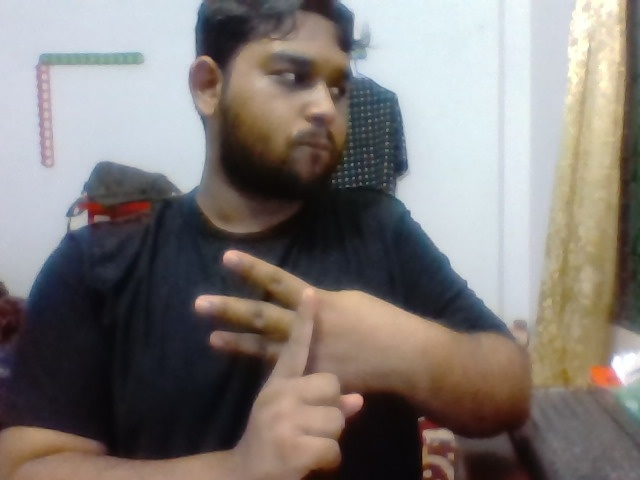E: (189, 236, 389, 470)
